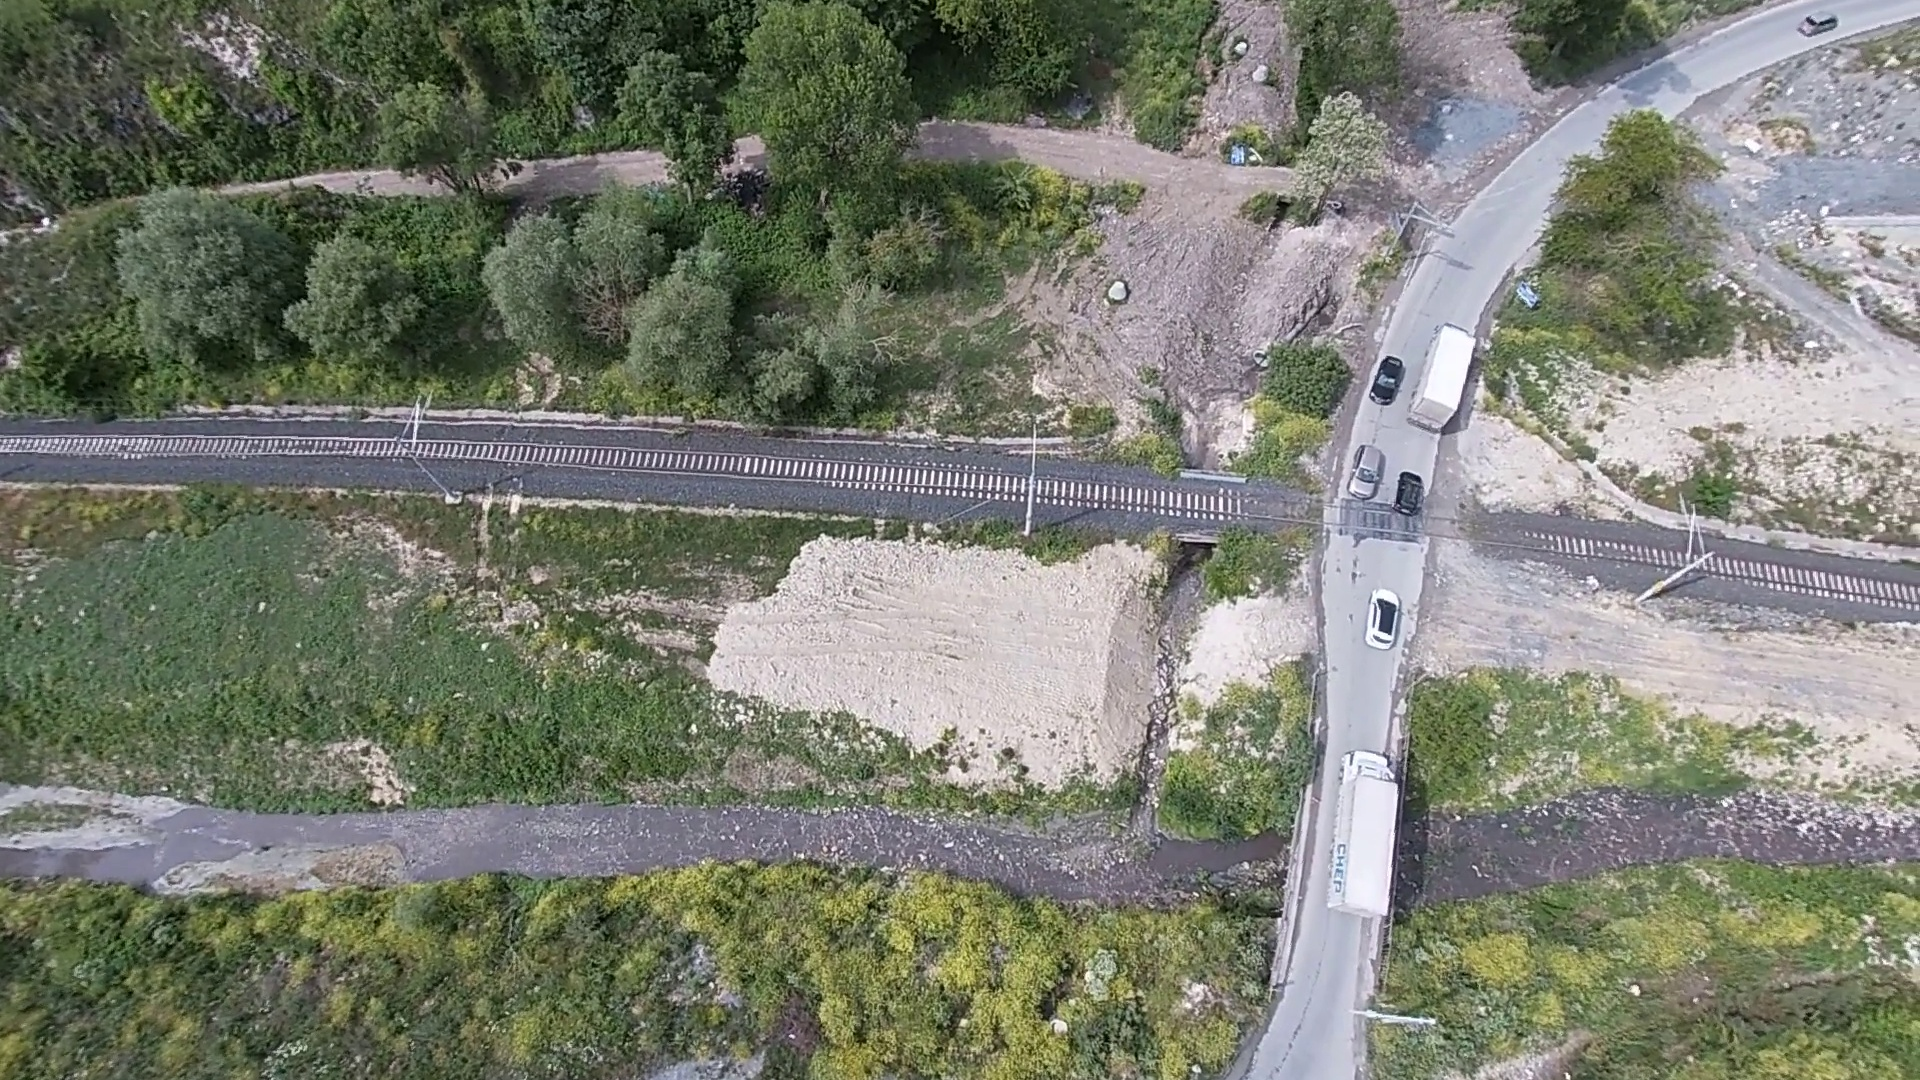arac: (1327, 740, 1404, 931), (1408, 327, 1484, 436), (1367, 587, 1414, 662), (1349, 438, 1385, 502), (1796, 5, 1847, 40), (1378, 353, 1404, 415), (1398, 469, 1427, 520)
